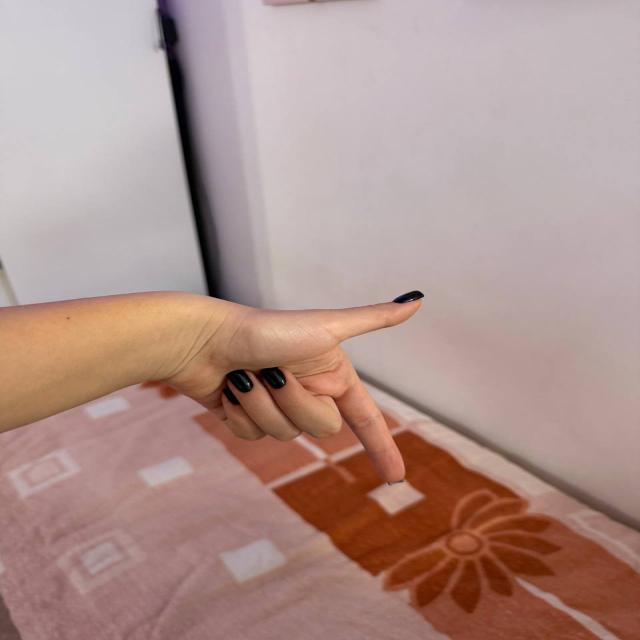g: (222, 292, 453, 488)
